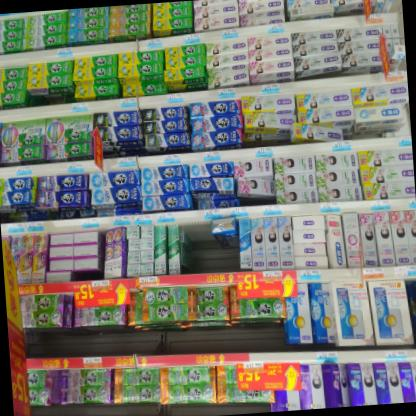empty_space: (181, 211, 215, 274)
